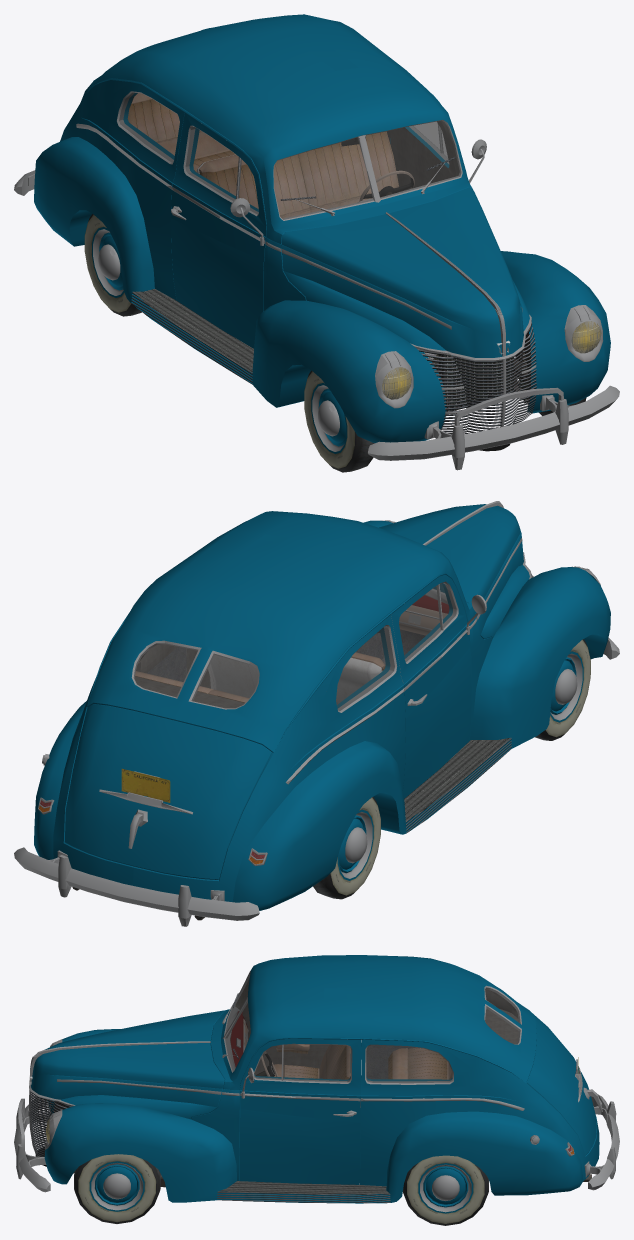
File: 1940_ford_v8.glb
3 renders of one model, top to bottom at view 1: azimuth 30°, elevation 25°; view 2: azimuth 150°, elevation 25°; view 3: azimuth 270°, elevation 25°, orthographic. The views are drawn at different scales.
Parts seen in each view (by area): view 1: _obj12, e8_obj, b48_obj, d17ad0_obj, _obj9, cf28_obj, e58_obj, _obj4, d0bd98_obj, b90_obj, d03670_obj, b2b8_obj (+11 smaller); view 2: _obj12, f0_obj, b48_obj, e8_obj, b420_obj, b2f8_obj, e58_obj, a0_obj1, d03670_obj, b90_obj, d0bd98_obj, ec78_obj02 (+14 smaller); view 3: _obj12, e8_obj, ca8_obj, f0_obj, _obj9, d0a290_obj, e58_obj, f18_obj, ec78_obj01, ec78_obj03, b90_obj, _obj10 (+15 smaller).
Boxes of the visible parts, bbox=[...] form: _obj12: bbox=[34, 14, 610, 443]; e8_obj: bbox=[281, 187, 529, 357]; b48_obj: bbox=[171, 112, 265, 348]; d17ad0_obj: bbox=[274, 120, 461, 219]; _obj9: bbox=[127, 93, 398, 218]; cf28_obj: bbox=[368, 385, 619, 470]; e58_obj: bbox=[76, 91, 603, 408]; _obj4: bbox=[418, 322, 536, 434]; d0bd98_obj: bbox=[185, 126, 258, 214]; b90_obj: bbox=[133, 289, 253, 372]; d03670_obj: bbox=[119, 92, 179, 162]; b2b8_obj: bbox=[390, 121, 456, 191]; _obj12: bbox=[34, 511, 610, 910]; f0_obj: bbox=[64, 704, 272, 879]; b48_obj: bbox=[391, 574, 471, 798]; e8_obj: bbox=[379, 504, 531, 639]; b420_obj: bbox=[14, 847, 259, 926]; b2f8_obj: bbox=[134, 643, 258, 708]; e58_obj: bbox=[38, 520, 600, 865]; a0_obj1: bbox=[208, 655, 382, 704]; d03670_obj: bbox=[336, 626, 394, 710]; b90_obj: bbox=[404, 737, 510, 820]; d0bd98_obj: bbox=[399, 583, 456, 661]; ec78_obj02: bbox=[313, 797, 380, 899]; _obj12: bbox=[44, 955, 599, 1203]; e8_obj: bbox=[31, 1010, 224, 1119]; ca8_obj: bbox=[239, 1038, 361, 1184]; f0_obj: bbox=[526, 1014, 596, 1155]; _obj9: bbox=[274, 1044, 452, 1079]; d0a290_obj: bbox=[254, 1044, 351, 1082]; e58_obj: bbox=[45, 970, 574, 1184]; f18_obj: bbox=[366, 1045, 452, 1083]; ec78_obj01: bbox=[74, 1154, 160, 1223]; ec78_obj03: bbox=[403, 1155, 489, 1225]; b90_obj: bbox=[218, 1181, 389, 1194]; _obj10: bbox=[217, 993, 390, 1203].
Bounding box in the file's own units: 1.86 × 1.71 × 4.58.
Materials: 23 (19 with a texture image).
